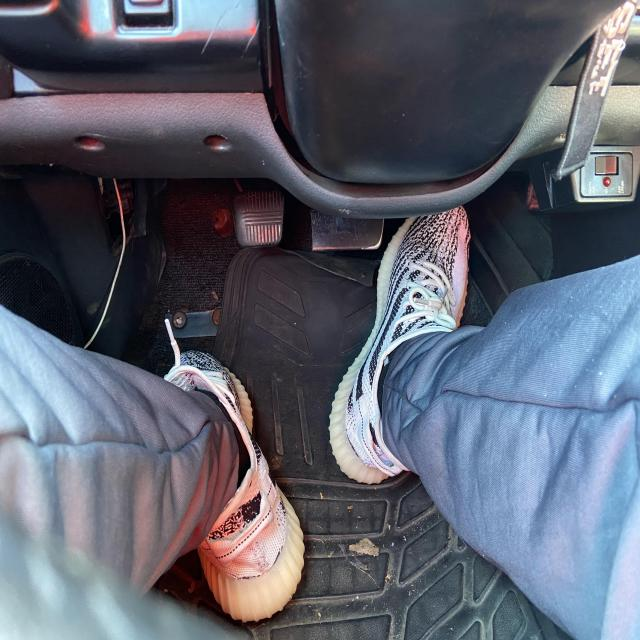shoes: (157, 311, 316, 631), (324, 190, 482, 497)
